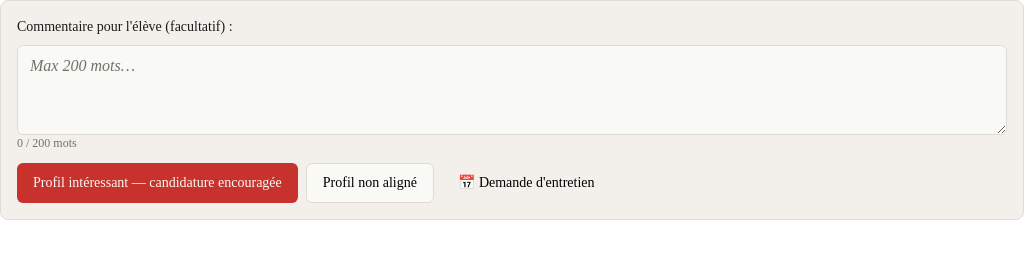
Test: EcoleRespondForm › shows an error message on failure
This screenshot has width=1024, height=269.
Click the button "Profil intéressant — candidature encouragée".
click(157, 183)  # box [17,163,298,203]
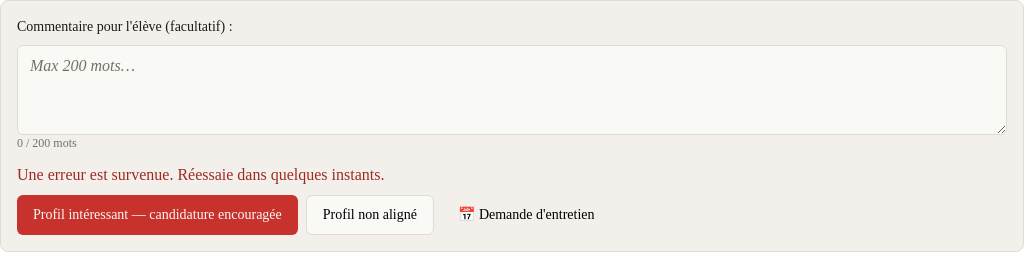
Now the message "Une erreur est survenue. Réessaie dans quelques instants." is shown, box [17,166,384,183]
